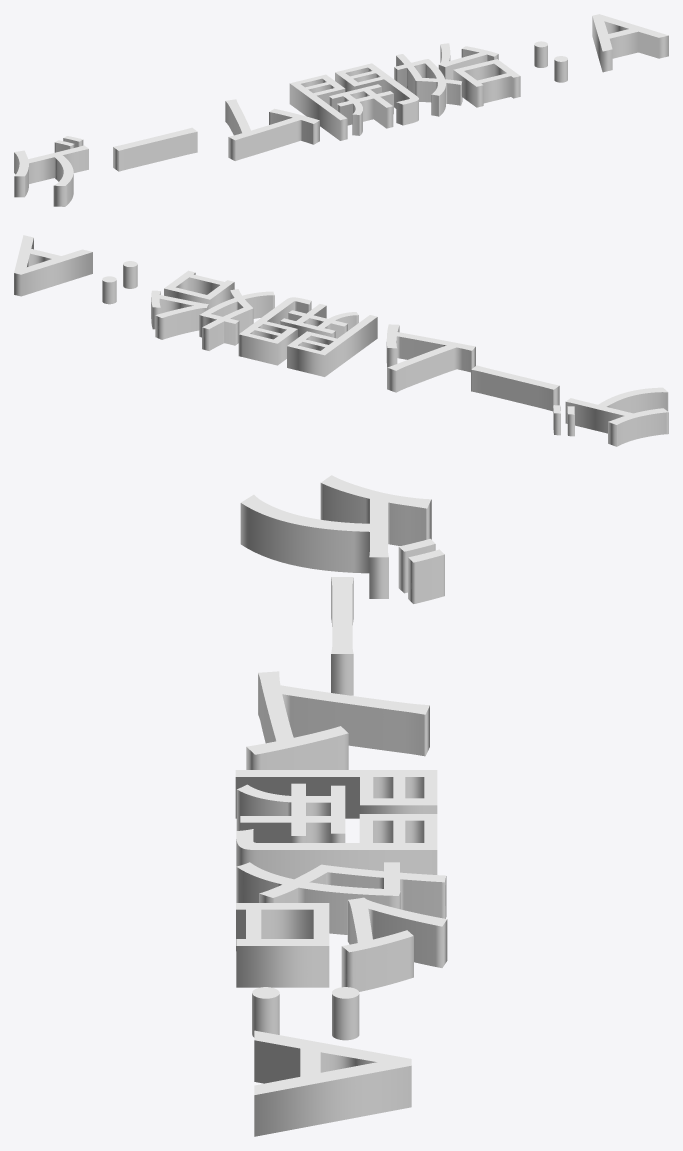
The model's file is PressToA.gltf.
The picture shows the model from 3 angles, top to bottom: view 1: azimuth 30°, elevation 25°; view 2: azimuth 150°, elevation 25°; view 3: azimuth 270°, elevation 25°; orthographic projection. The views are drawn at different scales.
Parts seen in each view (by area): view 1: Xボタンで揺れの切り替え : ON; view 2: Xボタンで揺れの切り替え : ON; view 3: Xボタンで揺れの切り替え : ON.
Part boxes in pixels (left/top/right/bottom): Xボタンで揺れの切り替え : ON: left=14, top=14, right=668, bottom=206; Xボタンで揺れの切り替え : ON: left=14, top=235, right=668, bottom=446; Xボタンで揺れの切り替え : ON: left=235, top=475, right=447, bottom=1136.
Bounding box in the file's own units: 6.39 × 0.2 × 0.922.
